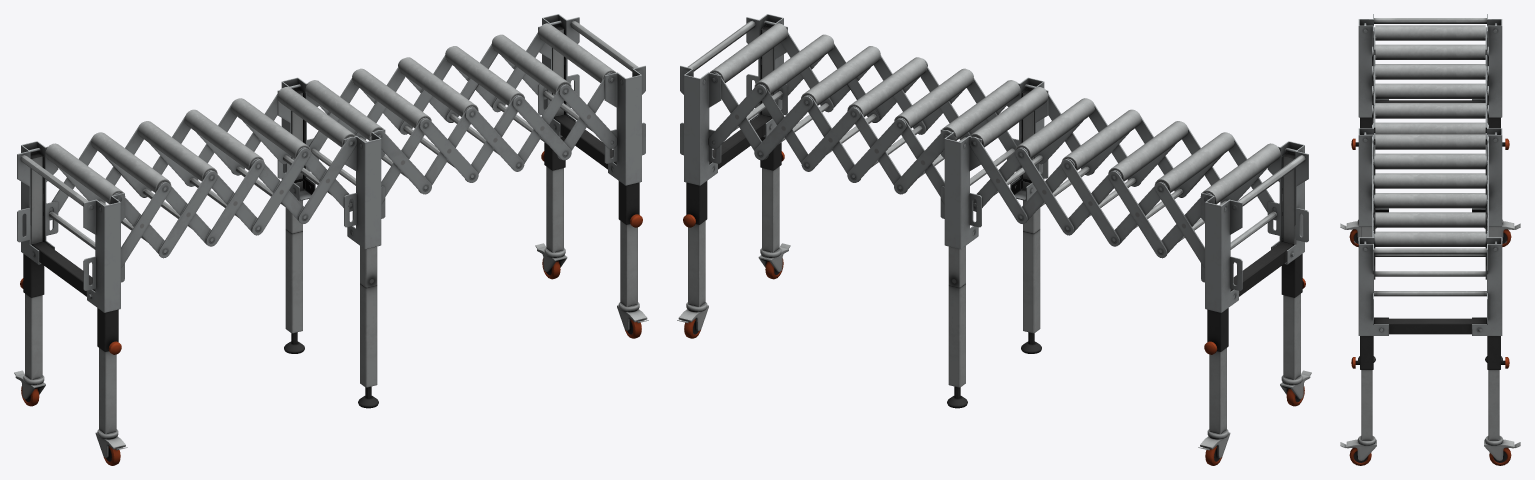
File: conveyor_belt.glb
The picture shows the model from 3 angles, left to right: view 1: azimuth 30°, elevation 25°; view 2: azimuth 150°, elevation 25°; view 3: azimuth 270°, elevation 25°; orthographic projection. The views are drawn at different scales.
Parts seen in each view (by area): view 1: jakarta_industrial_belt; view 2: jakarta_industrial_belt; view 3: jakarta_industrial_belt.
Part boxes in pixels (x1,y1,x2,y2): jakarta_industrial_belt: (14, 14, 648, 465); jakarta_industrial_belt: (677, 14, 1311, 465); jakarta_industrial_belt: (1340, 14, 1520, 465).
Size of the model in its own units: 2.09 by 0.9583 by 0.6767.
1 material, 1 textured.
